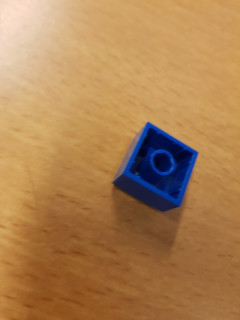2x2 blue: (111, 121, 199, 215)
